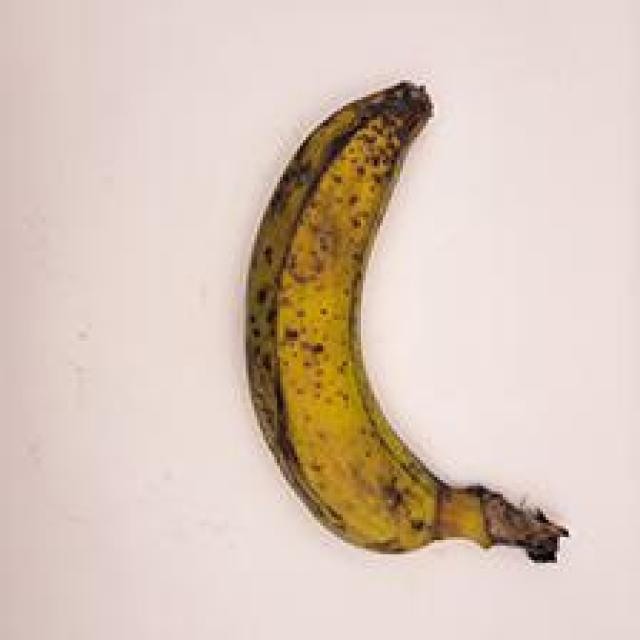Overripe: (214, 63, 589, 599)
